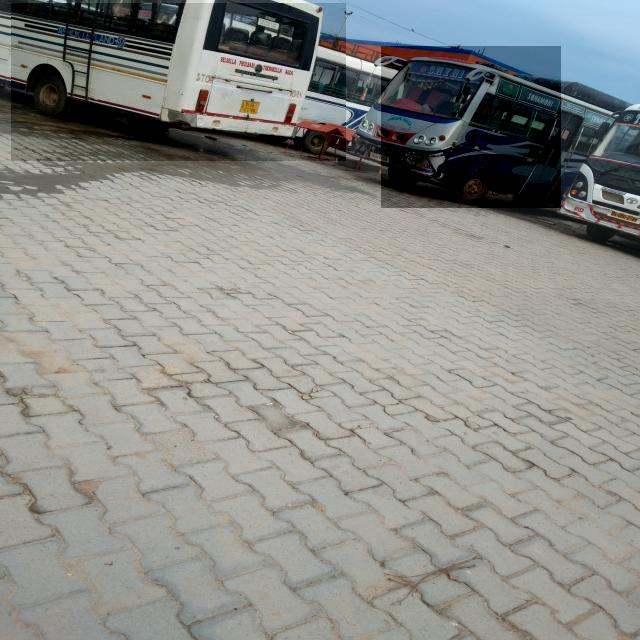Bus: (11, 3, 346, 162), (381, 46, 561, 208), (589, 82, 636, 240)
